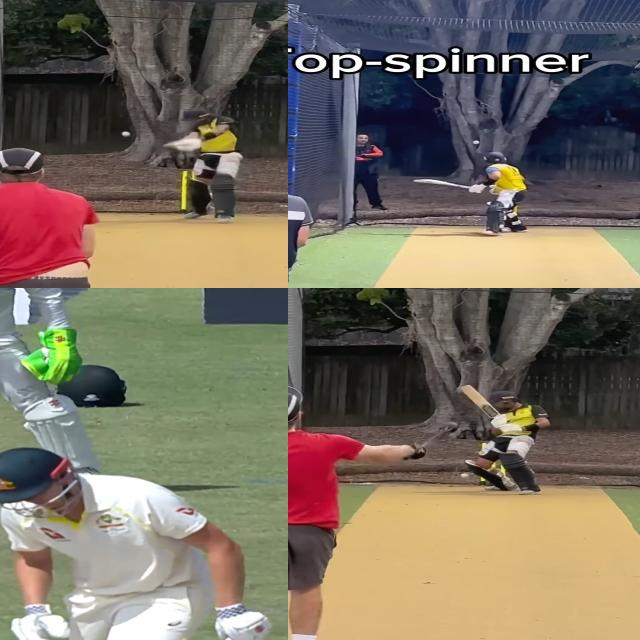Cricket ball: (119, 132, 133, 140), (459, 472, 472, 479), (472, 140, 480, 144)
